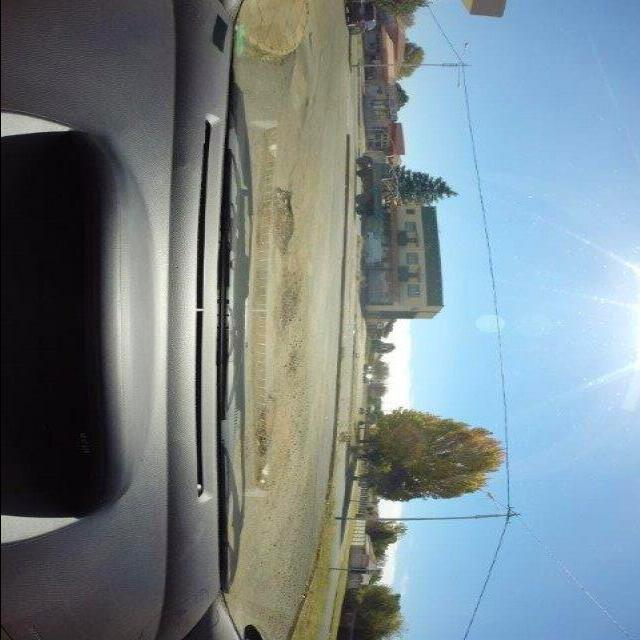lubang: (284, 51, 328, 143), (248, 398, 276, 471), (276, 269, 306, 331), (270, 188, 294, 259), (303, 25, 321, 57)
